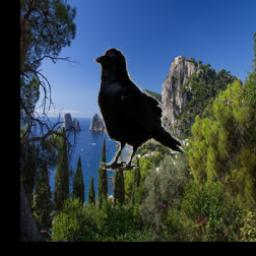Crow: (91, 47, 186, 172)
